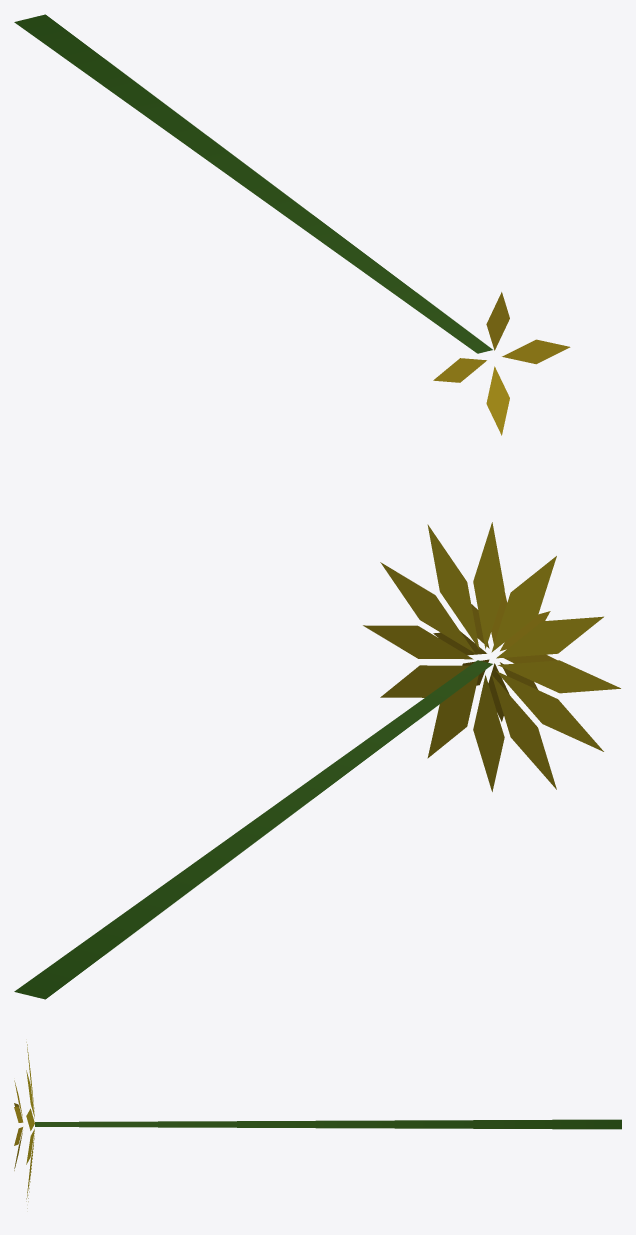
The model's file is Flower_Dandelion.glb.
The picture shows the model from 3 angles, top to bottom: view 1: azimuth 30°, elevation 25°; view 2: azimuth 150°, elevation 25°; view 3: azimuth 270°, elevation 25°; orthographic projection. The views are drawn at different scales.
Visible parts, largest first — view 1: Flower_Dandelion; view 2: Flower_Dandelion; view 3: Flower_Dandelion.
Boxes of the visible parts, x1,y1,x2,y2 form: Flower_Dandelion: (14, 14, 570, 435); Flower_Dandelion: (14, 522, 620, 999); Flower_Dandelion: (14, 1042, 621, 1208).
Size of the model in its own units: 0.0329 by 0.0329 by 0.1036.
